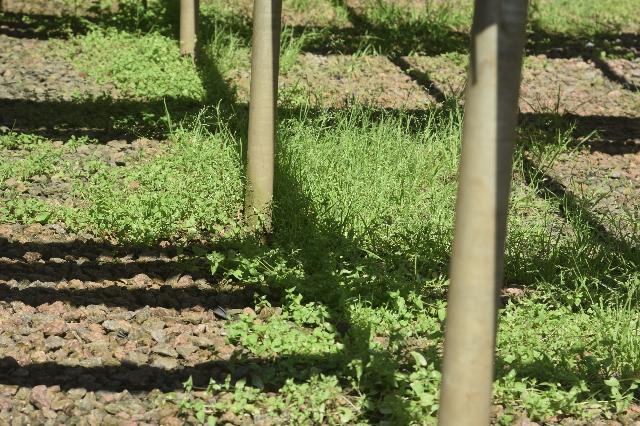MalezaMontesDelPlata: (231, 294, 436, 426), (99, 111, 250, 249), (500, 101, 597, 285), (499, 293, 638, 405), (281, 107, 370, 247), (367, 106, 453, 244), (57, 25, 183, 104), (0, 130, 90, 229)
